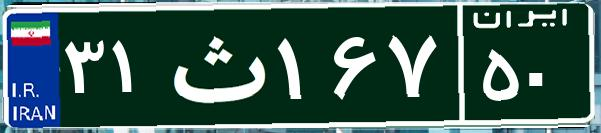0: (525, 38, 570, 115)
1: (273, 28, 330, 110), (110, 28, 158, 105)
3: (57, 26, 110, 107)
5: (475, 38, 525, 113)
6: (330, 28, 385, 110)
7: (385, 28, 445, 110)
ث: (158, 15, 273, 115)
